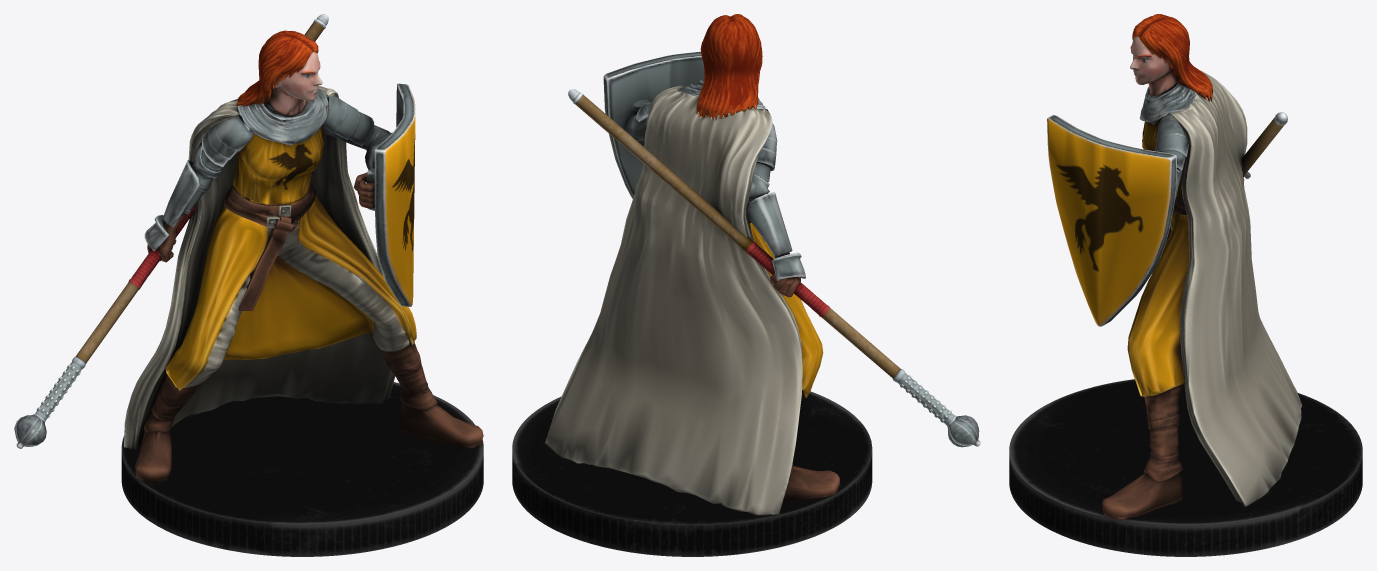
The model's file is MZ4250 - Human Cleric (Mercion).glb.
The picture shows the model from 3 angles, left to right: view 1: azimuth 30°, elevation 25°; view 2: azimuth 150°, elevation 25°; view 3: azimuth 270°, elevation 25°; orthographic projection. The views are drawn at different scales.
Visible parts, largest first — view 1: body_low.001, base_low.001, shield_low.001, staff_low.001, hair_low.001; view 2: body_low.001, base_low.001, staff_low.001, hair_low.001, shield_low.001; view 3: body_low.001, base_low.001, shield_low.001, hair_low.001, staff_low.001.
Part boxes in pixels (x1,y1,x2,y2): body_low.001: (124,51,483,482); base_low.001: (121,382,483,556); shield_low.001: (365,83,415,306); staff_low.001: (14,14,328,448); hair_low.001: (236,30,318,106); body_low.001: (545,79,840,515); base_low.001: (512,391,872,556); staff_low.001: (568,89,980,447); hair_low.001: (696,14,762,119); shield_low.001: (603,51,704,198); body_low.001: (1102,36,1302,519); base_low.001: (1009,379,1362,556); shield_low.001: (1047,114,1176,326); hair_low.001: (1132,14,1212,101); staff_low.001: (1241,112,1287,177).
Size of the model in its own units: 7.88 by 7.83 by 5.56.
1 material, 1 textured.
